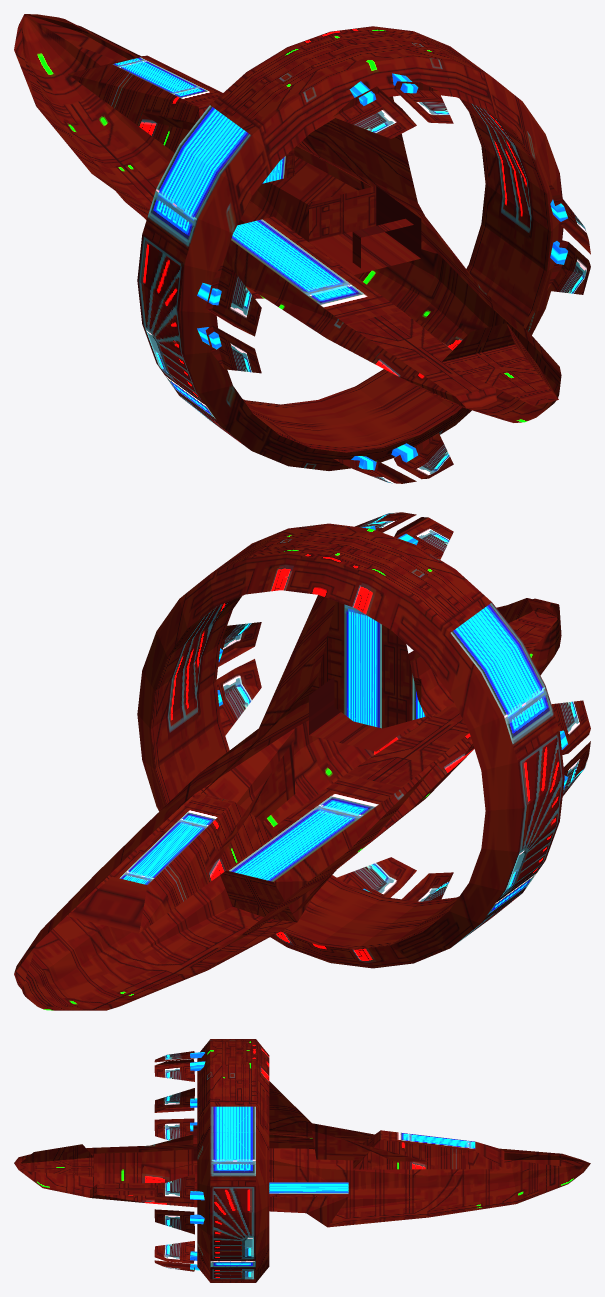
File: Vul_Srol.fbx
The picture shows the model from 3 angles, top to bottom: view 1: azimuth 30°, elevation 25°; view 2: azimuth 150°, elevation 25°; view 3: azimuth 270°, elevation 25°; orthographic projection. The views are drawn at different scales.
Parts seen in each view (by area): view 1: Vul_Srol; view 2: Vul_Srol; view 3: Vul_Srol.
Boxes of the visible parts, bbox=[...] form: Vul_Srol: bbox=[14, 14, 590, 483]; Vul_Srol: bbox=[14, 512, 590, 1010]; Vul_Srol: bbox=[14, 1039, 590, 1282].
Bounding box in the file's own units: 111 × 111 × 262.
1 material, 1 textured.
